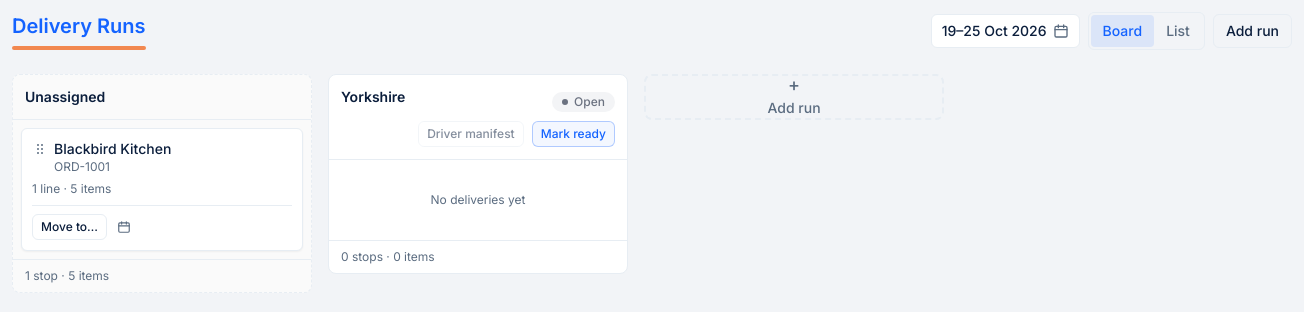
it: DeliveryRunsPage — mutation flow › moves the card immediately, without waiting for the network response
Expected: the element with test id "board-view" is shown, [12,74,944,293]
Step 1. Click the button "Move to…" → point(70, 227), box [32,214,107,240]
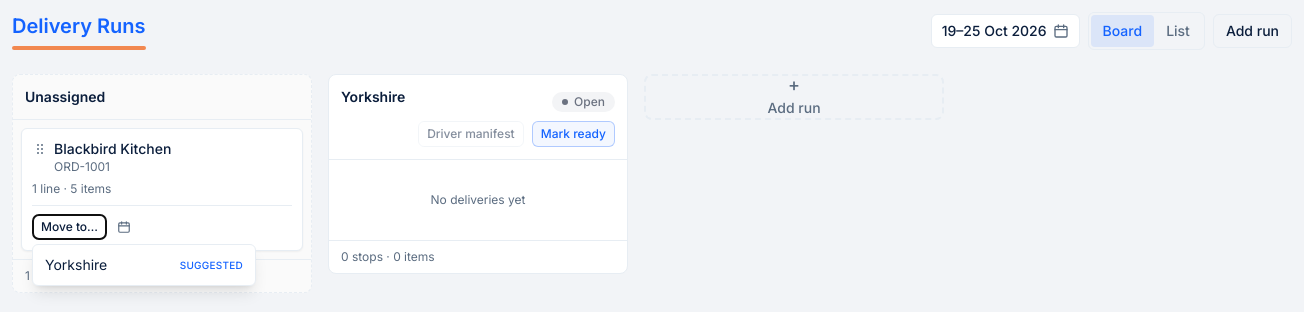
Step 2. Click the menu item "Yorkshire Suggested" → point(144, 265), box [33,249,255,281]
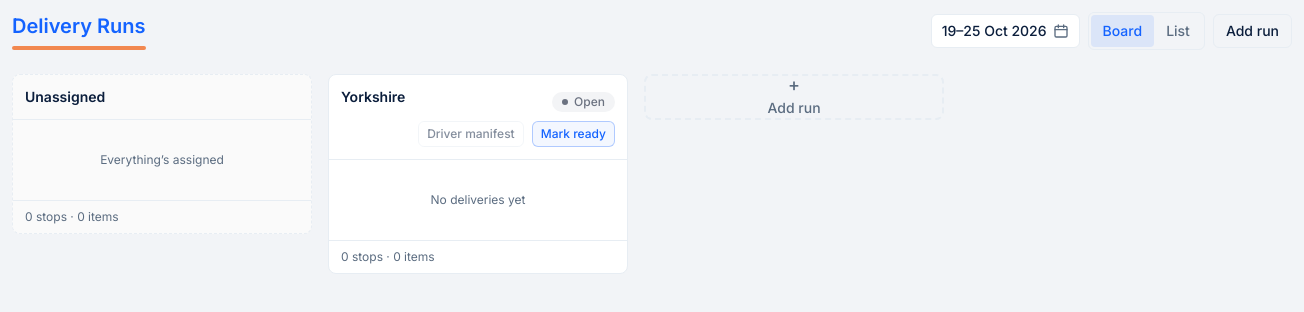
Expected: the text "Everything’s assigned" is shown, [100,152,224,167]
Expected: the text "Blackbird Kitchen" is gone
